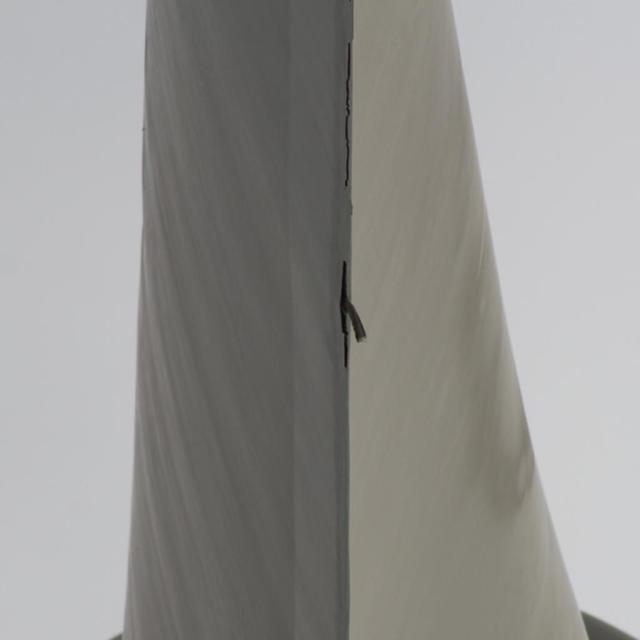crack: (337, 260, 377, 366), (338, 39, 354, 188)
